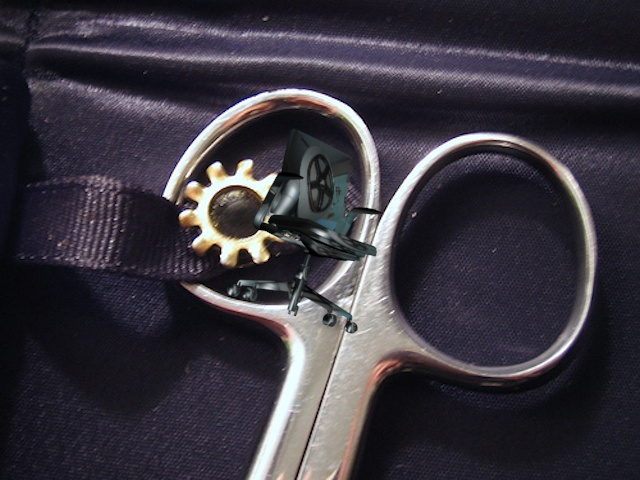desk_chair: (225, 129, 384, 336)
